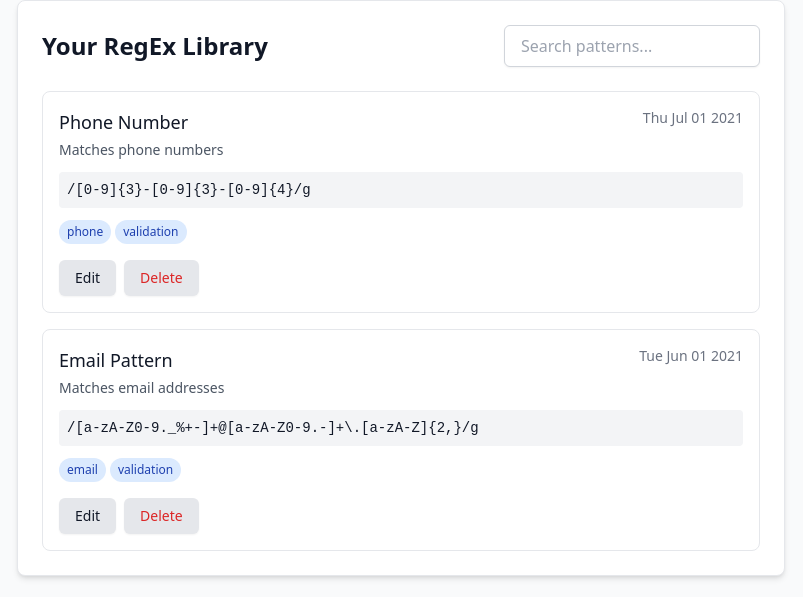
RegexLibrary › shows a message when no patterns match the search
The width and height of the screenshot is (803, 597).
Enter a search term that won't match any patterns
Type "nonexistent" into the field with placeholder "Search patterns..." at x=632, y=46, box [504, 25, 760, 67]
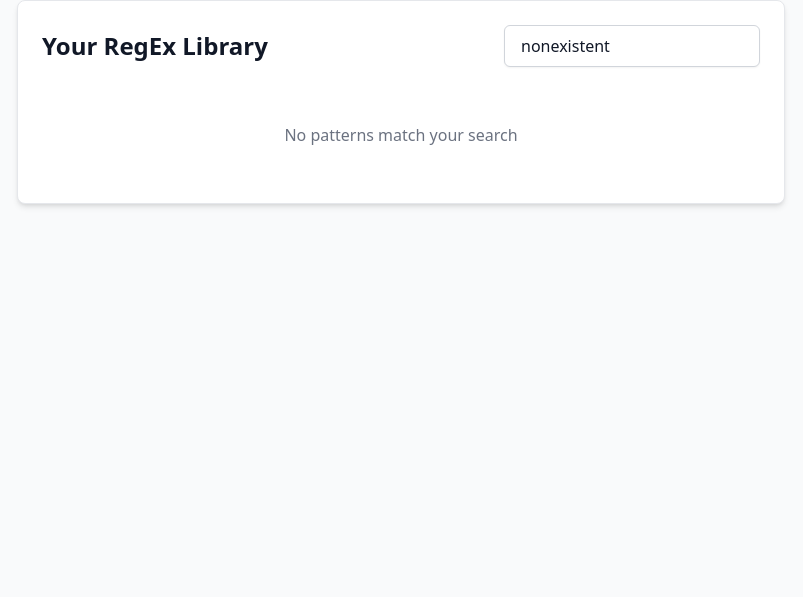
Result: the text "No patterns match your search" is shown at [284, 124, 518, 146]
